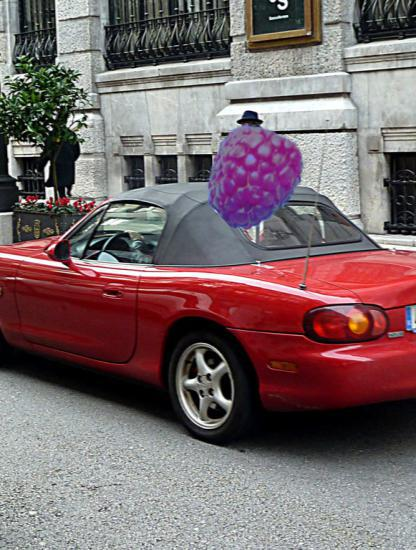Raspberry: (200, 121, 306, 227)
